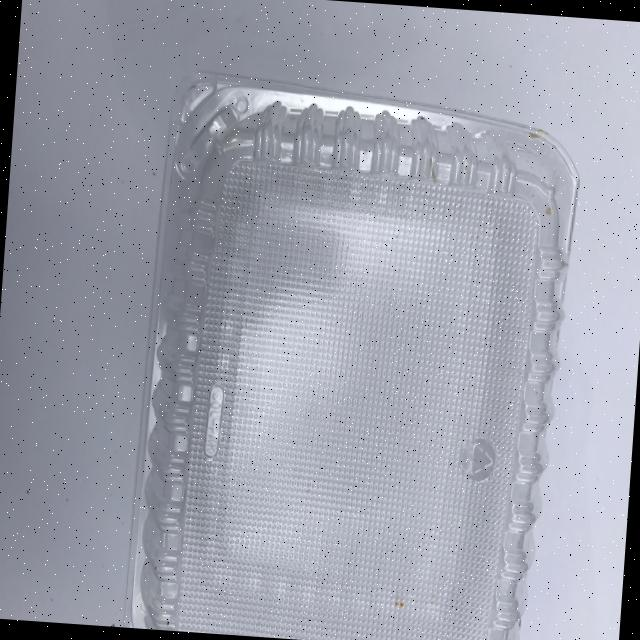plastic: (130, 69, 584, 640)
